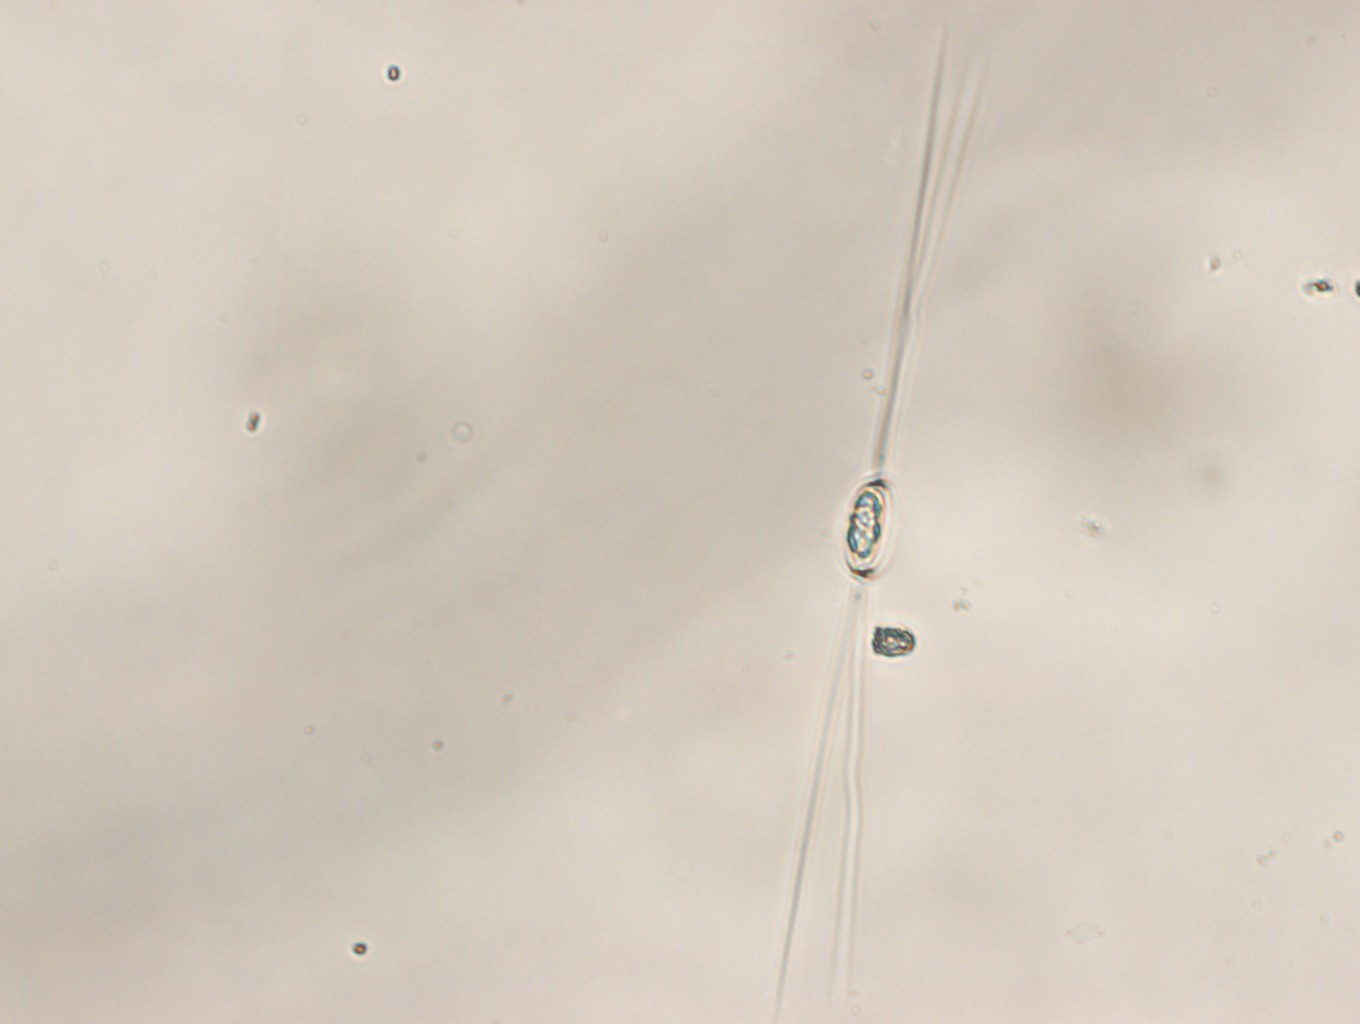chaetoceros: (769, 17, 986, 1019)
